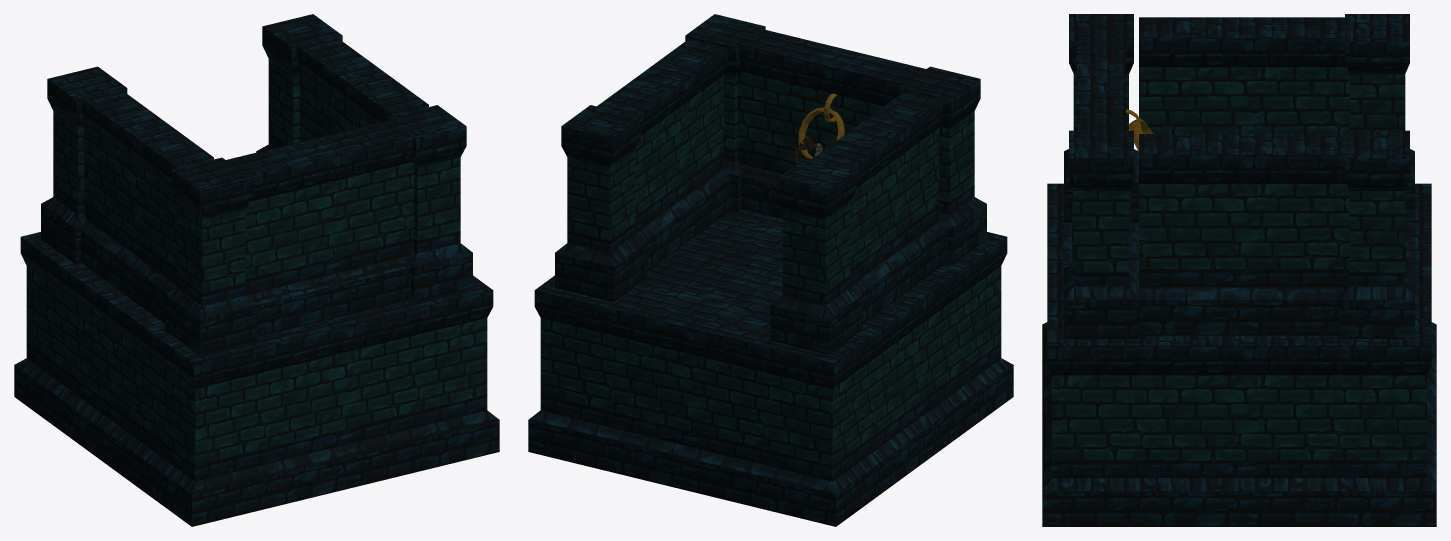
Rendered from tile-clue-three.glb.
3 views of the same model, side by side, from view 1: azimuth 30°, elevation 25°; view 2: azimuth 150°, elevation 25°; view 3: azimuth 270°, elevation 25° (orthographic). The views are drawn at different scales.
Parts seen in each view (by area): view 1: mergedBlocks(Clone); view 2: mergedBlocks(Clone); view 3: mergedBlocks(Clone).
Boxes of the visible parts, left/top/right/bottom form: mergedBlocks(Clone): left=14, top=14, right=499, bottom=526; mergedBlocks(Clone): left=528, top=14, right=1013, bottom=526; mergedBlocks(Clone): left=1042, top=14, right=1436, bottom=526.
Size of the model in its own units: 2 by 2 by 2.
Materials: 5 (2 with a texture image).
